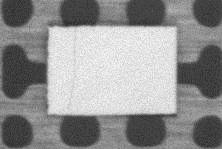DIE_CRACK: (67, 30, 78, 106)
